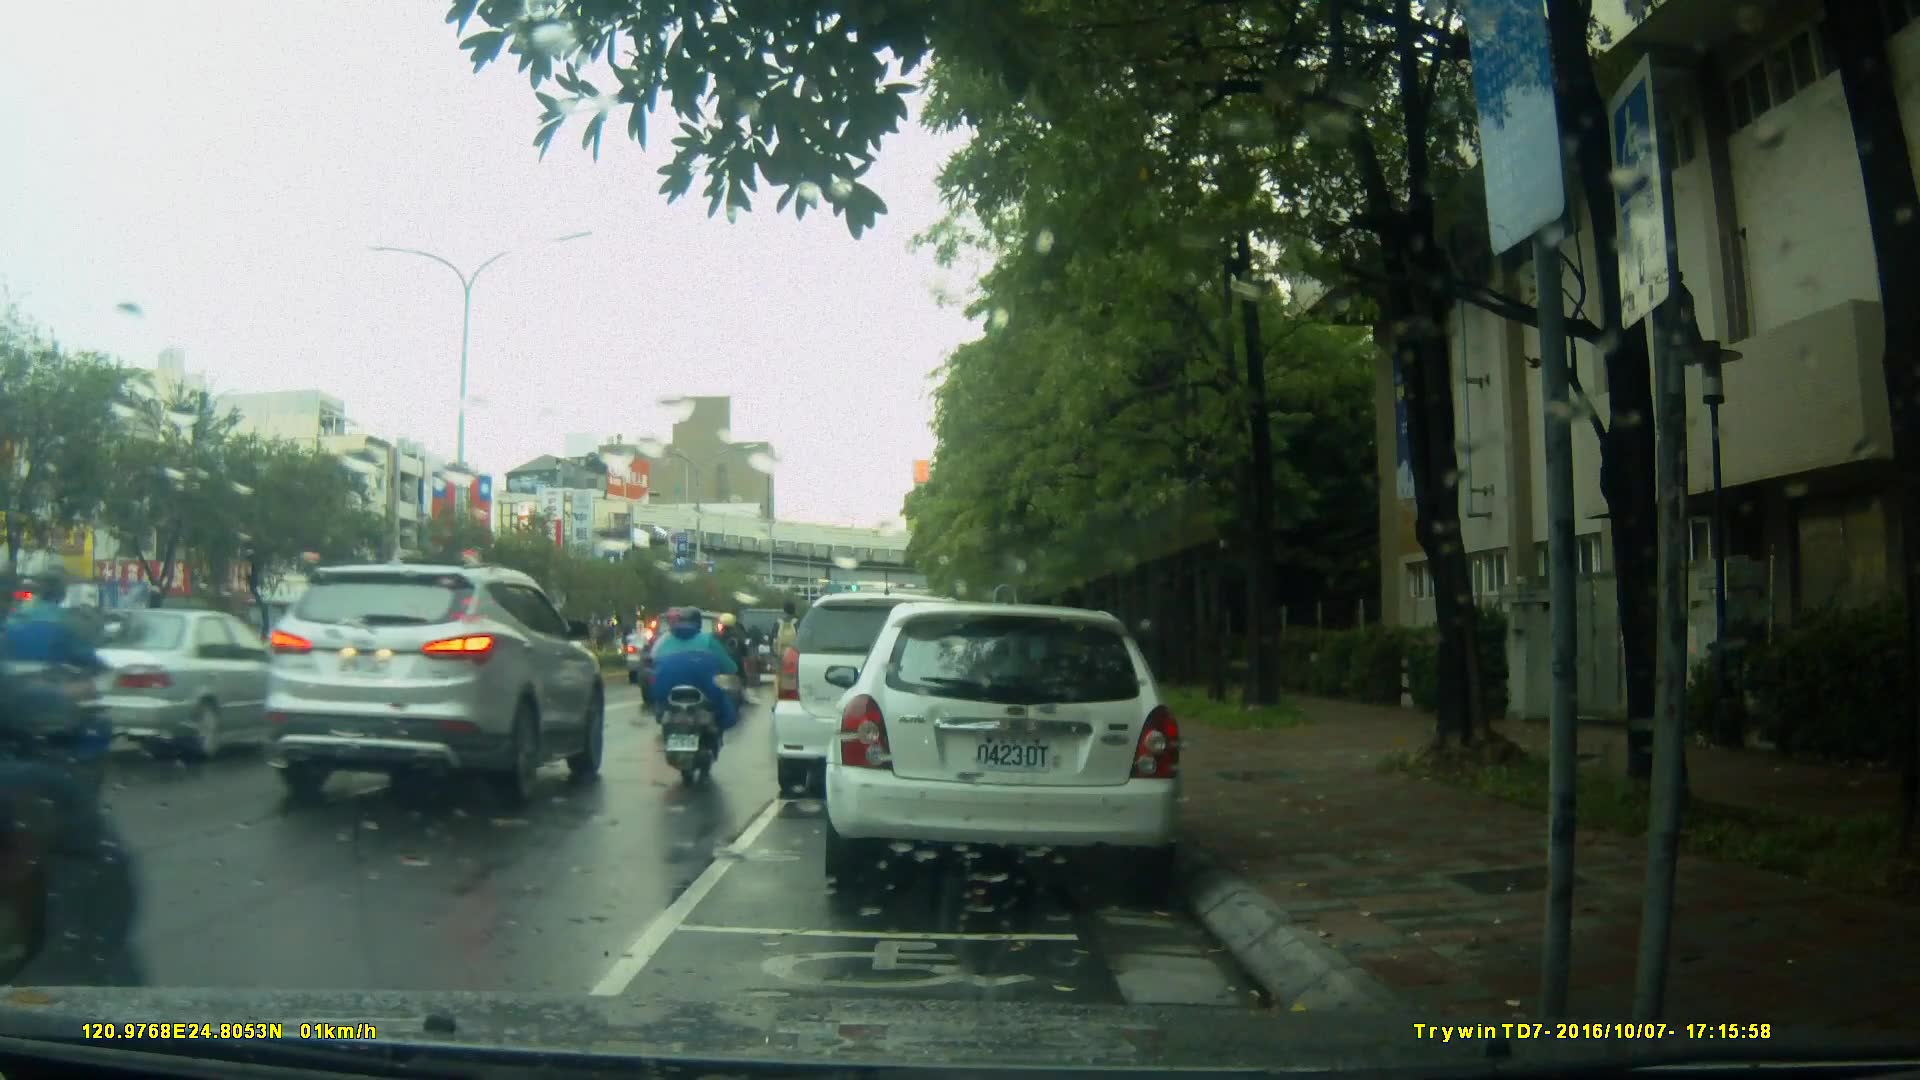rider: (15, 561, 127, 782), (649, 608, 738, 777), (646, 602, 704, 754), (703, 610, 762, 721), (772, 599, 807, 716)
vehicle: (822, 604, 1188, 883), (264, 563, 609, 808), (774, 595, 995, 802), (27, 606, 293, 761), (637, 610, 749, 703)
